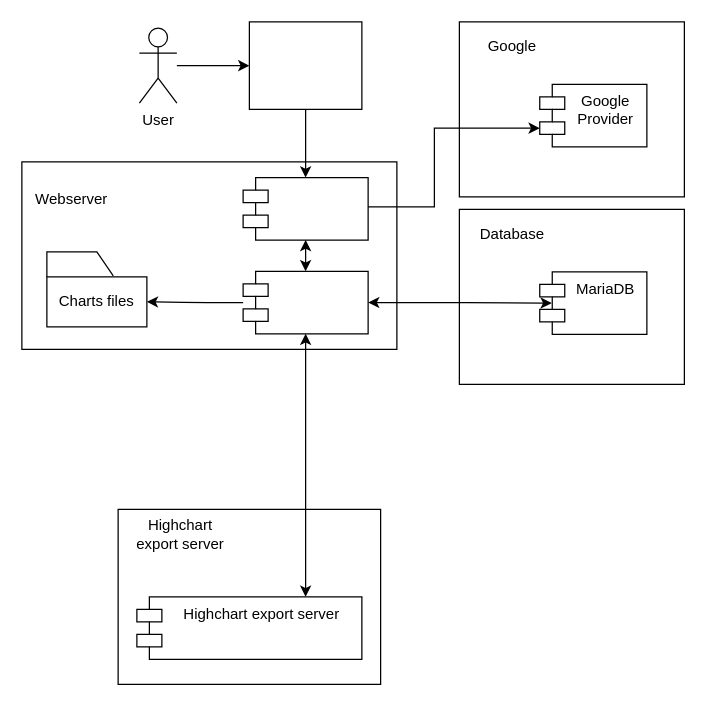
Image size: 706x706. Some labels were removed from this diagram. The shapes that lost their labels are listed below. From the top down, each one's box as (x1, y1, x2, y2) in pixels, then its label:
(248, 21, 362, 109): WebBrowser
(242, 176, 368, 240): NextJS
(242, 270, 368, 334): NextJS API
